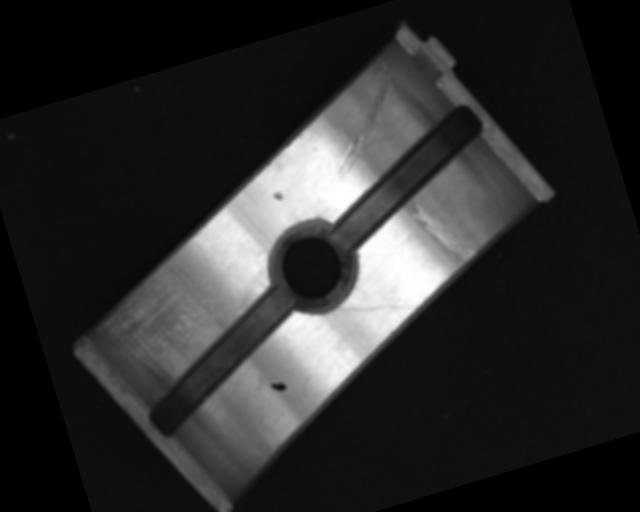blot: (269, 378, 288, 394)
bruise: (272, 190, 285, 202)
gap: (122, 287, 318, 440), (309, 102, 508, 251)
hole: (259, 213, 367, 324)
nick: (309, 58, 414, 176), (406, 186, 478, 274), (335, 284, 422, 331)
scratch: (77, 238, 234, 395)
